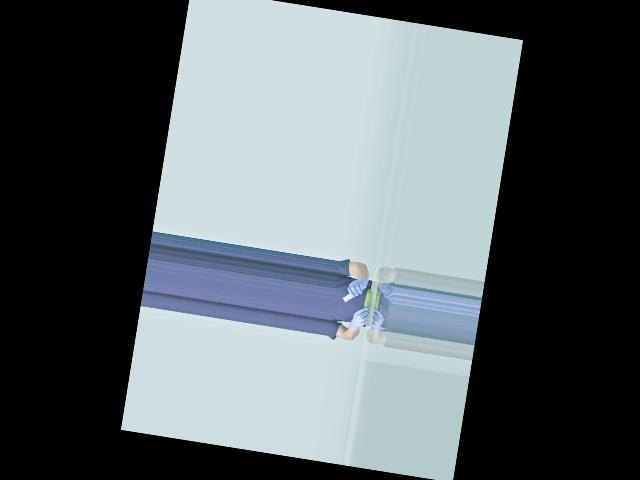cucumber: (362, 288, 373, 316)
